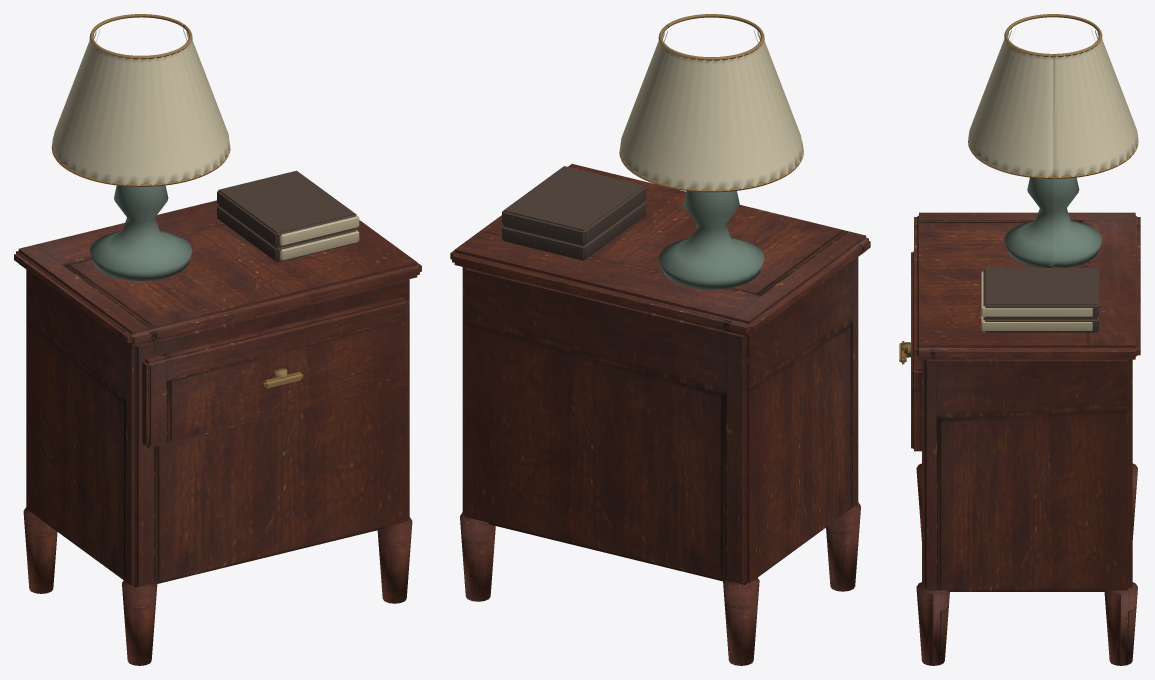
File: bedside-lamp.glb
3 views of the same model, side by side, from view 1: azimuth 30°, elevation 25°; view 2: azimuth 150°, elevation 25°; view 3: azimuth 270°, elevation 25° (orthographic). The views are drawn at different scales.
Parts seen in each view (by area): view 1: Frame; view 2: Frame; view 3: Frame.
Boxes of the visible parts, bbox=[...] form: Frame: bbox=[14, 14, 421, 665]; Frame: bbox=[450, 14, 870, 665]; Frame: bbox=[899, 14, 1140, 665].
Bounding box in the file's own units: 0.535 × 0.9807 × 0.398.
7 materials, 1 textured.
